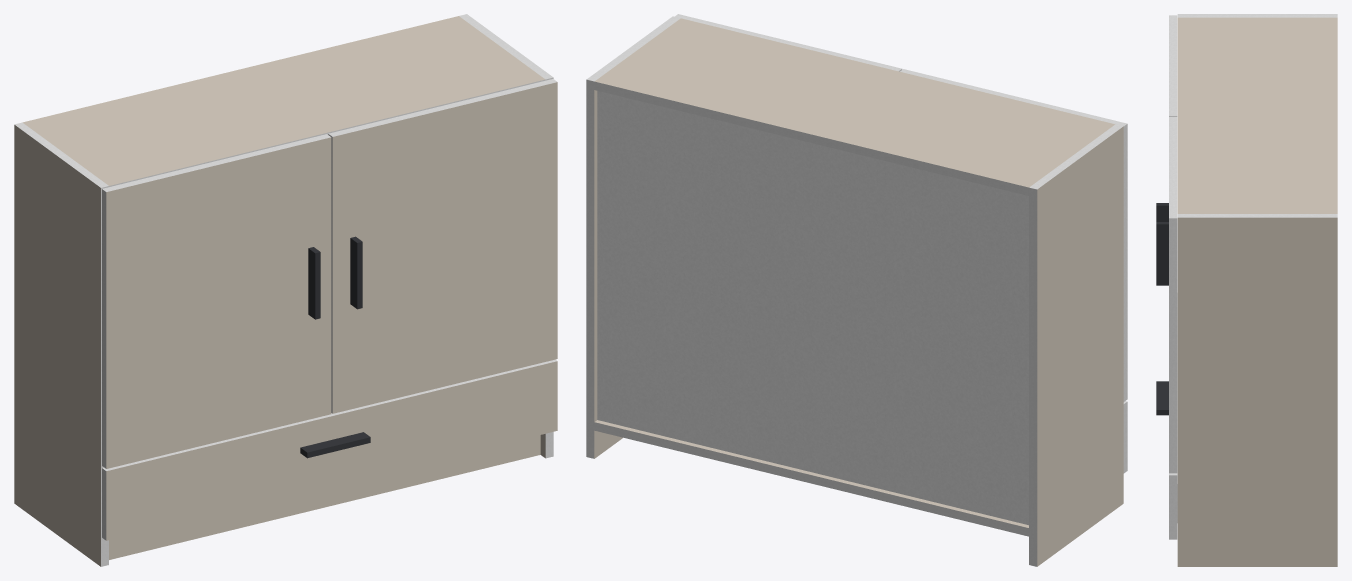
The model's file is CAL-CON-std.glb.
The picture shows the model from 3 angles, left to right: view 1: azimuth 30°, elevation 25°; view 2: azimuth 150°, elevation 25°; view 3: azimuth 270°, elevation 25°; orthographic projection. The views are drawn at different scales.
Visible parts, largest first — view 1: door-r:pbr, door-l:pbr, top:pbr, side-l:pbr, d1-front:pbr, plinth:pbr, pull, door-l:sheet:eyJtIjoibWRmIiwic2lkZSI6ImVkZ2UtbG9uZyIsInNlZWQ, d1-front:sheet:eyJtIjoibWRmIiwic2lkZSI6ImVkZ2UtbG9uZyIsInNlZ, door-l:sheet:eyJtIjoibWRmIiwic2lkZSI6ImVkZ2UtZW5kIiwic2VlZCI, door-r:sheet:eyJtIjoibWRmIiwic2lkZSI6ImVkZ2UtZW5kIiwic2VlZCI, top:sheet:eyJtIjoibWRmIiwic2lkZSI6ImVkZ2UtbG9uZyIsInNlZWQiOj (+2 smaller); view 2: back:sheet:eyJtIjoibWRmIiwic2lkZSI6ImZhY2UiLCJzZWVkIjoyLCJ0a, top:pbr, side-l:pbr, top:sheet:eyJtIjoibWRmIiwic2lkZSI6ImVkZ2UtbG9uZyIsInNlZWQiOj, bottom:sheet:eyJtIjoibWRmIiwic2lkZSI6ImVkZ2UtbG9uZyIsInNlZWQ, side-r:sheet:eyJtIjoibWRmIiwic2lkZSI6ImVkZ2UtbG9uZyIsInNlZWQ, side-l:sheet:eyJtIjoibWRmIiwic2lkZSI6ImVkZ2UtbG9uZyIsInNlZWQ, side-r:pbr, bottom:pbr, door-l:sheet:eyJtIjoibWRmIiwic2lkZSI6ImVkZ2UtbG9uZyIsInNlZWQ, door-r:sheet:eyJtIjoibWRmIiwic2lkZSI6ImVkZ2UtZW5kIiwic2VlZCI, door-l:sheet:eyJtIjoibWRmIiwic2lkZSI6ImVkZ2UtZW5kIiwic2VlZCI (+2 smaller); view 3: side-r:pbr, top:pbr, door-r:sheet:eyJtIjoibWRmIiwic2lkZSI6ImVkZ2UtbG9uZyIsInNlZWQ, pull, door-l:sheet:eyJtIjoibWRmIiwic2lkZSI6ImVkZ2UtZW5kIiwic2VlZCI, door-r:sheet:eyJtIjoibWRmIiwic2lkZSI6ImVkZ2UtZW5kIiwic2VlZCI, side-l:sheet:eyJtIjoibWRmIiwic2lkZSI6ImVkZ2UtZW5kIiwic2VlZCI, side-r:sheet:eyJtIjoibWRmIiwic2lkZSI6ImVkZ2UtZW5kIiwic2VlZCI, d1-front:sheet:eyJtIjoibWRmIiwic2lkZSI6ImVkZ2UtZW5kIiwic2VlZ.
Part boxes in pixels (<box>): door-r:pbr: <box>332,82,557,413</box>; door-l:pbr: <box>106,137,331,468</box>; top:pbr: <box>22,16,545,185</box>; side-l:pbr: <box>14,125,100,566</box>; d1-front:pbr: <box>106,361,557,540</box>; plinth:pbr: <box>109,435,540,559</box>; pull: <box>300,236,370,458</box>; door-l:sheet:eyJtIjoibWRmIiwic2lkZSI6ImVkZ2UtbG9uZyIsInNlZWQ: <box>102,189,106,468</box>; d1-front:sheet:eyJtIjoibWRmIiwic2lkZSI6ImVkZ2UtbG9uZyIsInNlZ: <box>102,359,557,470</box>; door-l:sheet:eyJtIjoibWRmIiwic2lkZSI6ImVkZ2UtZW5kIiwic2VlZCI: <box>102,134,330,191</box>; door-r:sheet:eyJtIjoibWRmIiwic2lkZSI6ImVkZ2UtZW5kIiwic2VlZCI: <box>328,79,556,136</box>; top:sheet:eyJtIjoibWRmIiwic2lkZSI6ImVkZ2UtbG9uZyIsInNlZWQiOj: <box>109,79,545,186</box>; back:sheet:eyJtIjoibWRmIiwic2lkZSI6ImZhY2UiLCJzZWVkIjoyLCJ0a: <box>597,91,1028,525</box>; top:pbr: <box>595,18,1114,187</box>; side-l:pbr: <box>1037,126,1123,566</box>; top:sheet:eyJtIjoibWRmIiwic2lkZSI6ImVkZ2UtbG9uZyIsInNlZWQiOj: <box>594,81,1028,195</box>; bottom:sheet:eyJtIjoibWRmIiwic2lkZSI6ImVkZ2UtbG9uZyIsInNlZWQ: <box>594,422,1028,536</box>; side-r:sheet:eyJtIjoibWRmIiwic2lkZSI6ImVkZ2UtbG9uZyIsInNlZWQ: <box>586,79,594,458</box>; side-l:sheet:eyJtIjoibWRmIiwic2lkZSI6ImVkZ2UtbG9uZyIsInNlZWQ: <box>1029,187,1037,566</box>; side-r:pbr: <box>594,90,622,458</box>; bottom:pbr: <box>595,420,1028,527</box>; door-l:sheet:eyJtIjoibWRmIiwic2lkZSI6ImVkZ2UtbG9uZyIsInNlZWQ: <box>1123,124,1127,401</box>; door-r:sheet:eyJtIjoibWRmIiwic2lkZSI6ImVkZ2UtZW5kIiwic2VlZCI: <box>675,14,901,71</box>; door-l:sheet:eyJtIjoibWRmIiwic2lkZSI6ImVkZ2UtZW5kIiwic2VlZCI: <box>900,69,1126,126</box>; side-r:pbr: <box>1177,217,1337,566</box>; top:pbr: <box>1177,17,1337,213</box>; door-r:sheet:eyJtIjoibWRmIiwic2lkZSI6ImVkZ2UtbG9uZyIsInNlZWQ: <box>1169,218,1177,473</box>; pull: <box>1156,203,1168,415</box>; door-l:sheet:eyJtIjoibWRmIiwic2lkZSI6ImVkZ2UtZW5kIiwic2VlZCI: <box>1169,15,1177,116</box>; door-r:sheet:eyJtIjoibWRmIiwic2lkZSI6ImVkZ2UtZW5kIiwic2VlZCI: <box>1169,117,1177,218</box>; side-l:sheet:eyJtIjoibWRmIiwic2lkZSI6ImVkZ2UtZW5kIiwic2VlZCI: <box>1177,14,1337,17</box>; side-r:sheet:eyJtIjoibWRmIiwic2lkZSI6ImVkZ2UtZW5kIiwic2VlZCI: <box>1177,214,1337,217</box>; d1-front:sheet:eyJtIjoibWRmIiwic2lkZSI6ImVkZ2UtZW5kIiwic2VlZ: <box>1169,475,1177,539</box>.
Size of the model in its own units: 1 by 0.8 by 0.3766.
55 materials, 42 textured.
